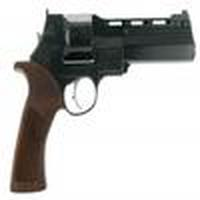gun: (10, 13, 199, 191)
